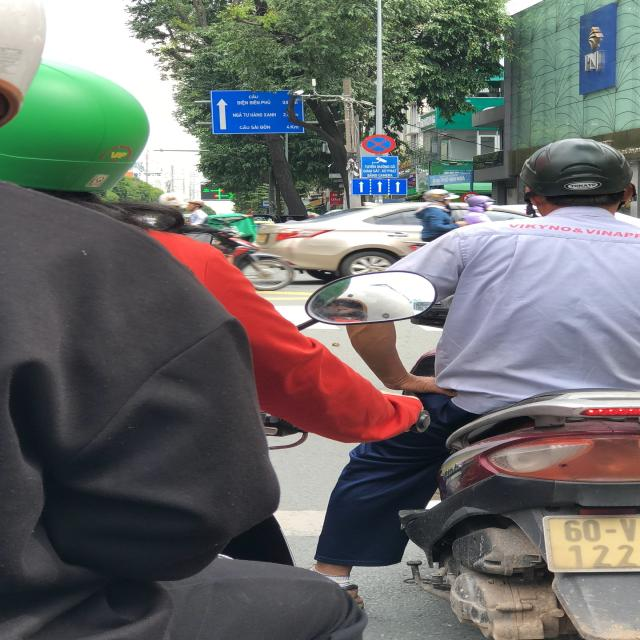Bien bao cam dung xe va do xe: (361, 133, 398, 155)
